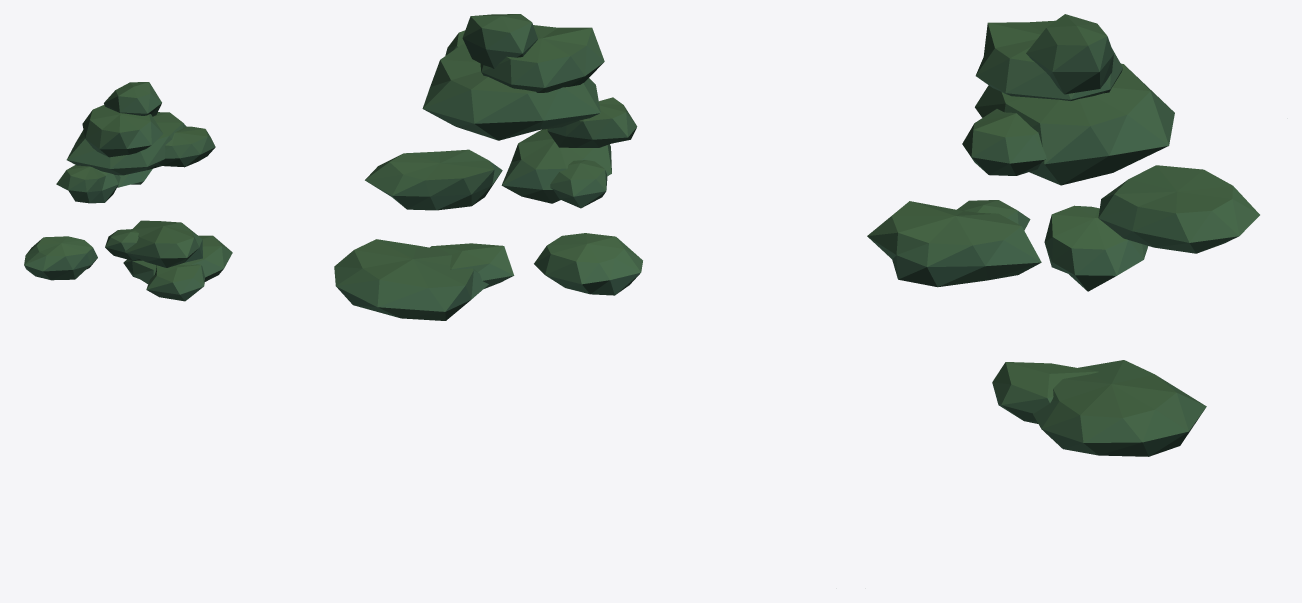
File: ShorePine2_lite_leaf.glb
3 views of the same model, side by side, from view 1: azimuth 30°, elevation 25°; view 2: azimuth 150°, elevation 25°; view 3: azimuth 270°, elevation 25° (orthographic). The views are drawn at different scales.
Visible parts, largest first — view 1: ShorePine2_lite_leaf; view 2: ShorePine2_lite_leaf; view 3: ShorePine2_lite_leaf.
Boxes of the visible parts, x1,y1,x2,y2 form: ShorePine2_lite_leaf: (24,82,232,301); ShorePine2_lite_leaf: (334,14,642,320); ShorePine2_lite_leaf: (867,14,1259,456).
Size of the model in its own units: 15.11 by 20.45 by 10.93.
